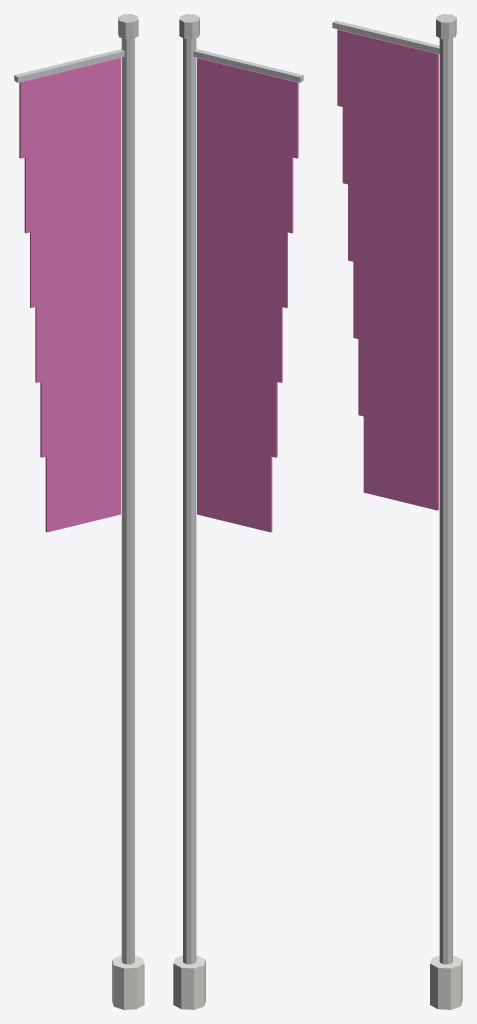
The model's file is Banner_Flag_Pink.fbx.
The picture shows the model from 3 angles, left to right: view 1: azimuth 30°, elevation 25°; view 2: azimuth 150°, elevation 25°; view 3: azimuth 330°, elevation 25°; orthographic projection.
Visible parts, largest first — view 1: Banner_Flag_Pink; view 2: Banner_Flag_Pink; view 3: Banner_Flag_Pink.
Boxes of the visible parts, box(x1,y1,x2,y2) form: Banner_Flag_Pink: box(14, 14, 144, 1009); Banner_Flag_Pink: box(173, 14, 303, 1009); Banner_Flag_Pink: box(332, 14, 462, 1009).
Bounding box in the file's own units: 0.96 × 7.12 × 0.22.
